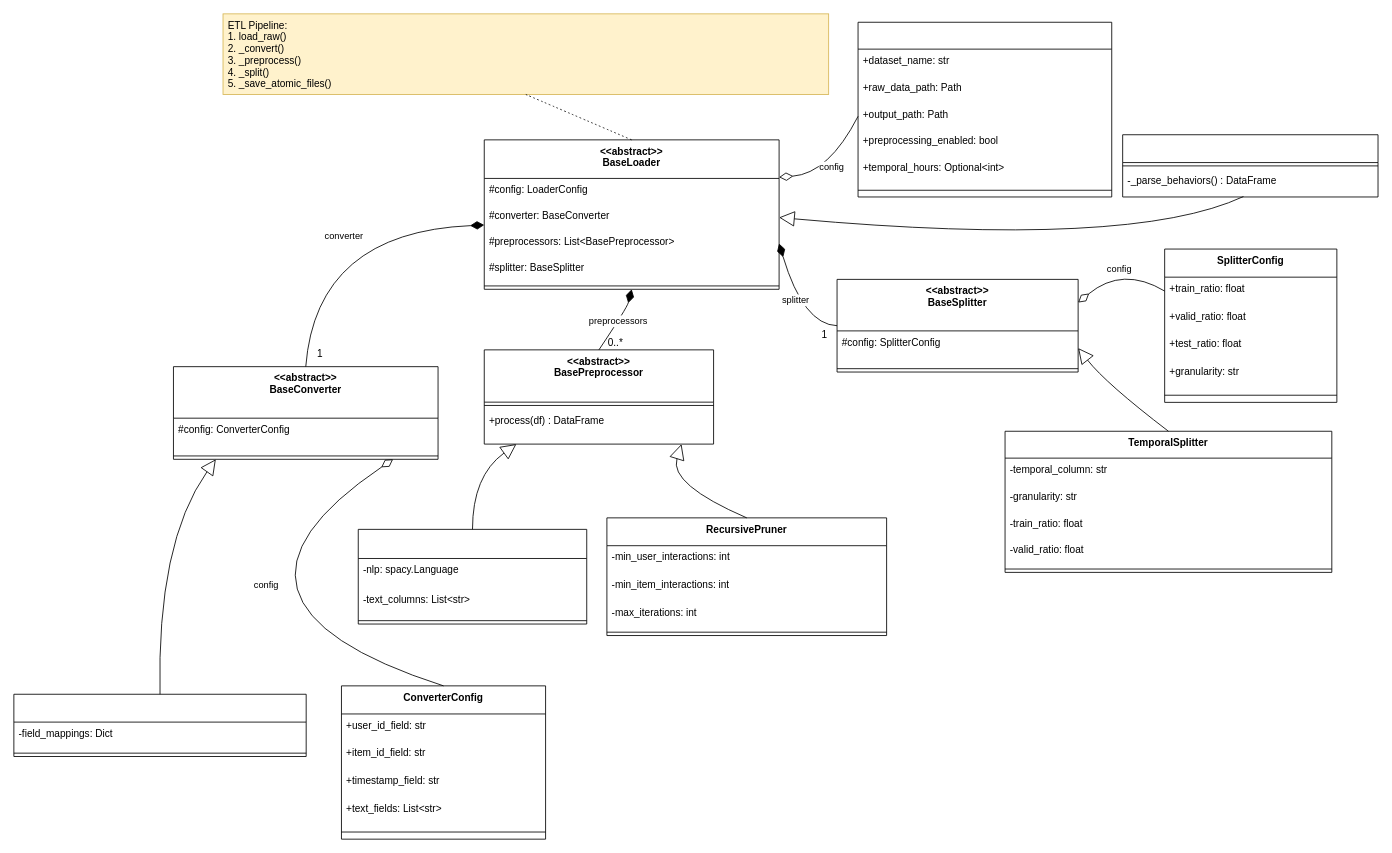
Image size: 1392x853. Some labels were removed from this diagram. Each missing label, with the box of its shape:
LoaderConfig: (857, 21, 1112, 197)
MINDAtomicConverter: (13, 693, 306, 757)
MINDLoader: (1122, 134, 1378, 197)
SpacyTextCleaner: (357, 529, 587, 624)
